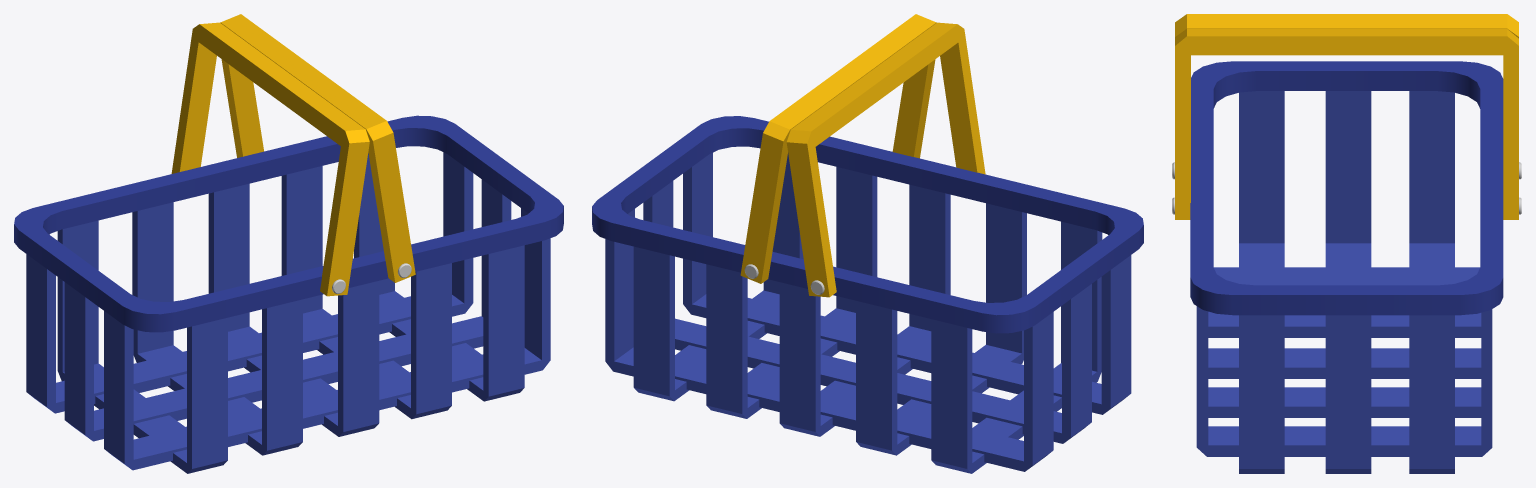
Rendered from Basket.fbx.
3 views of the same model, side by side, from view 1: azimuth 30°, elevation 25°; view 2: azimuth 150°, elevation 25°; view 3: azimuth 270°, elevation 25° (orthographic). The views are drawn at different scales.
Visible parts, largest first — view 1: Basket; view 2: Basket; view 3: Basket.
Boxes of the visible parts, x1=… form: Basket: x1=14, y1=14, x2=563, y2=473; Basket: x1=592, y1=14, x2=1143, y2=473; Basket: x1=1172, y1=14, x2=1521, y2=473.
Bounding box in the file's own units: 31.11 × 21.36 × 19.63.
1 material, 1 textured.
